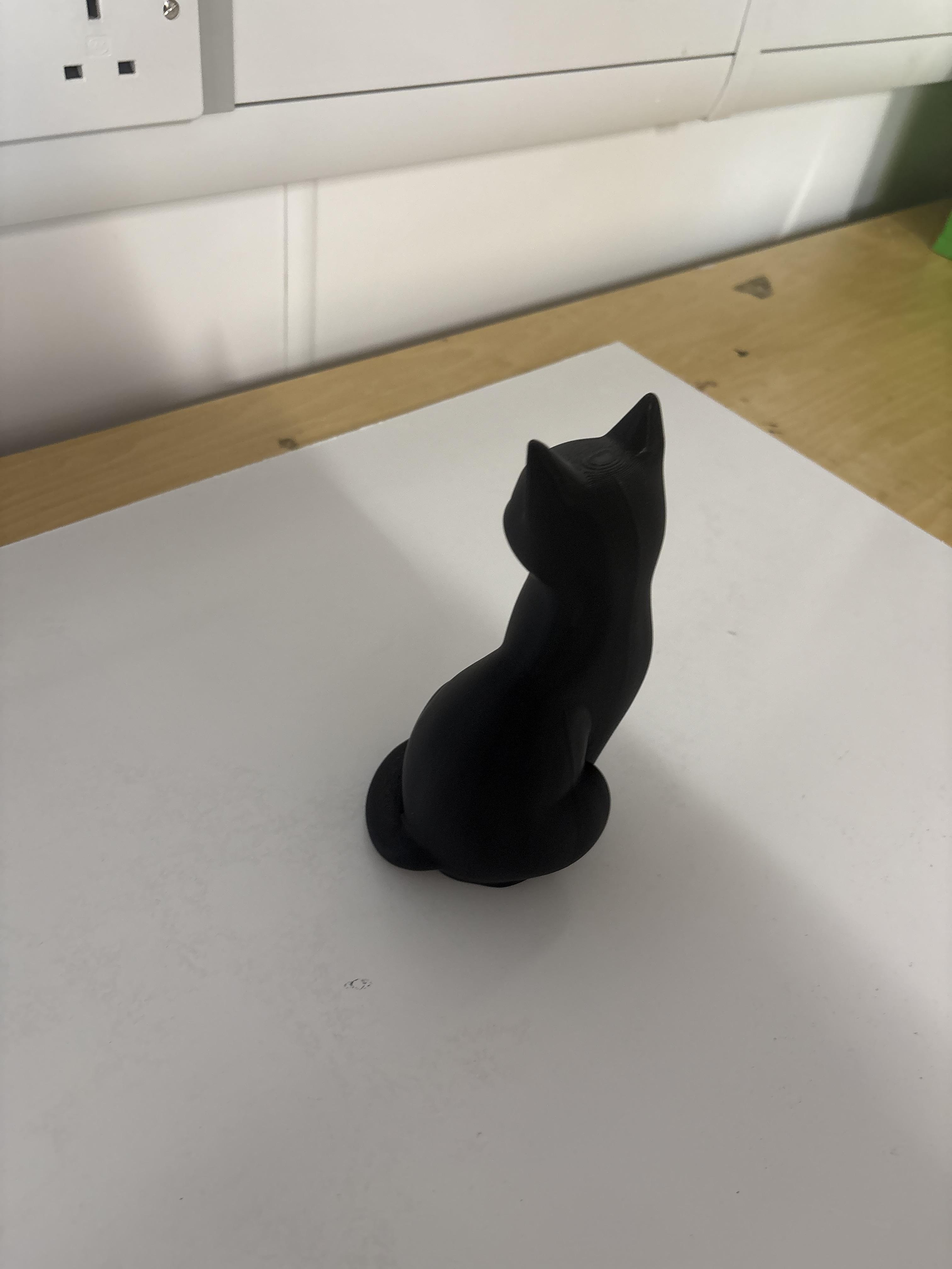cat: (366, 394, 665, 886)
